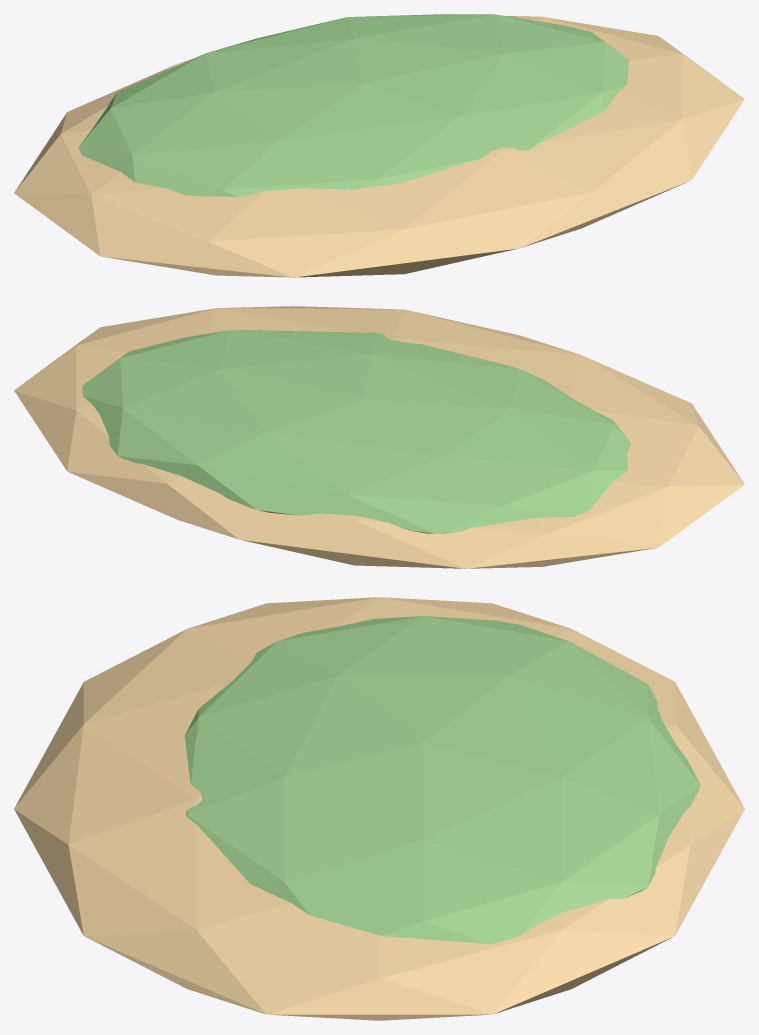
Rendered from island_base.glb.
3 renders of one model, top to bottom at view 1: azimuth 30°, elevation 25°; view 2: azimuth 150°, elevation 25°; view 3: azimuth 270°, elevation 25°, orthographic. The views are drawn at different scales.
Parts seen in each view (by area): view 1: island_base; view 2: island_base; view 3: island_base.
Part boxes in pixels (bbox=[...]): island_base: bbox=[14, 14, 744, 277]; island_base: bbox=[14, 306, 744, 568]; island_base: bbox=[14, 597, 744, 1020].
Bounding box in the file's own units: 13.31 × 1.8 × 10.
